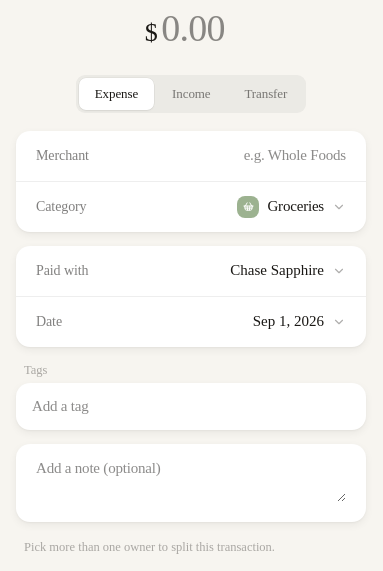
Test: TxForm — income deposit accounts (spec 033) › direction toggle expense→income: source resets to first deposit account
Click the tab "Income": (191, 94) [156,78,226,110]
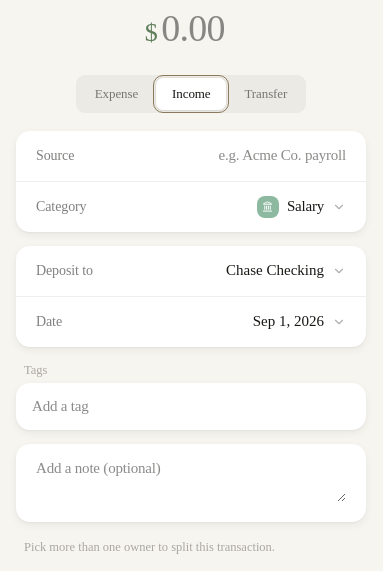
Result: the element showing "Chase Checking" is shown at [226,262,346,278]
